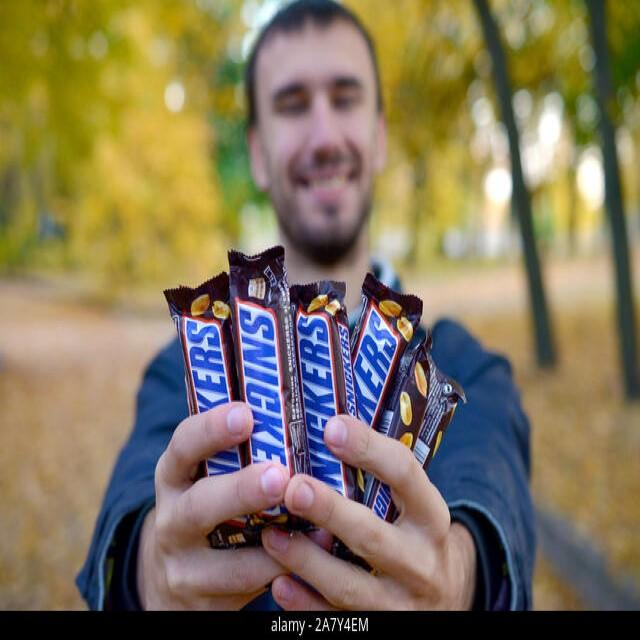snickers_chocolate: (165, 293, 248, 502), (230, 255, 293, 498), (355, 283, 425, 480), (300, 277, 358, 503)
